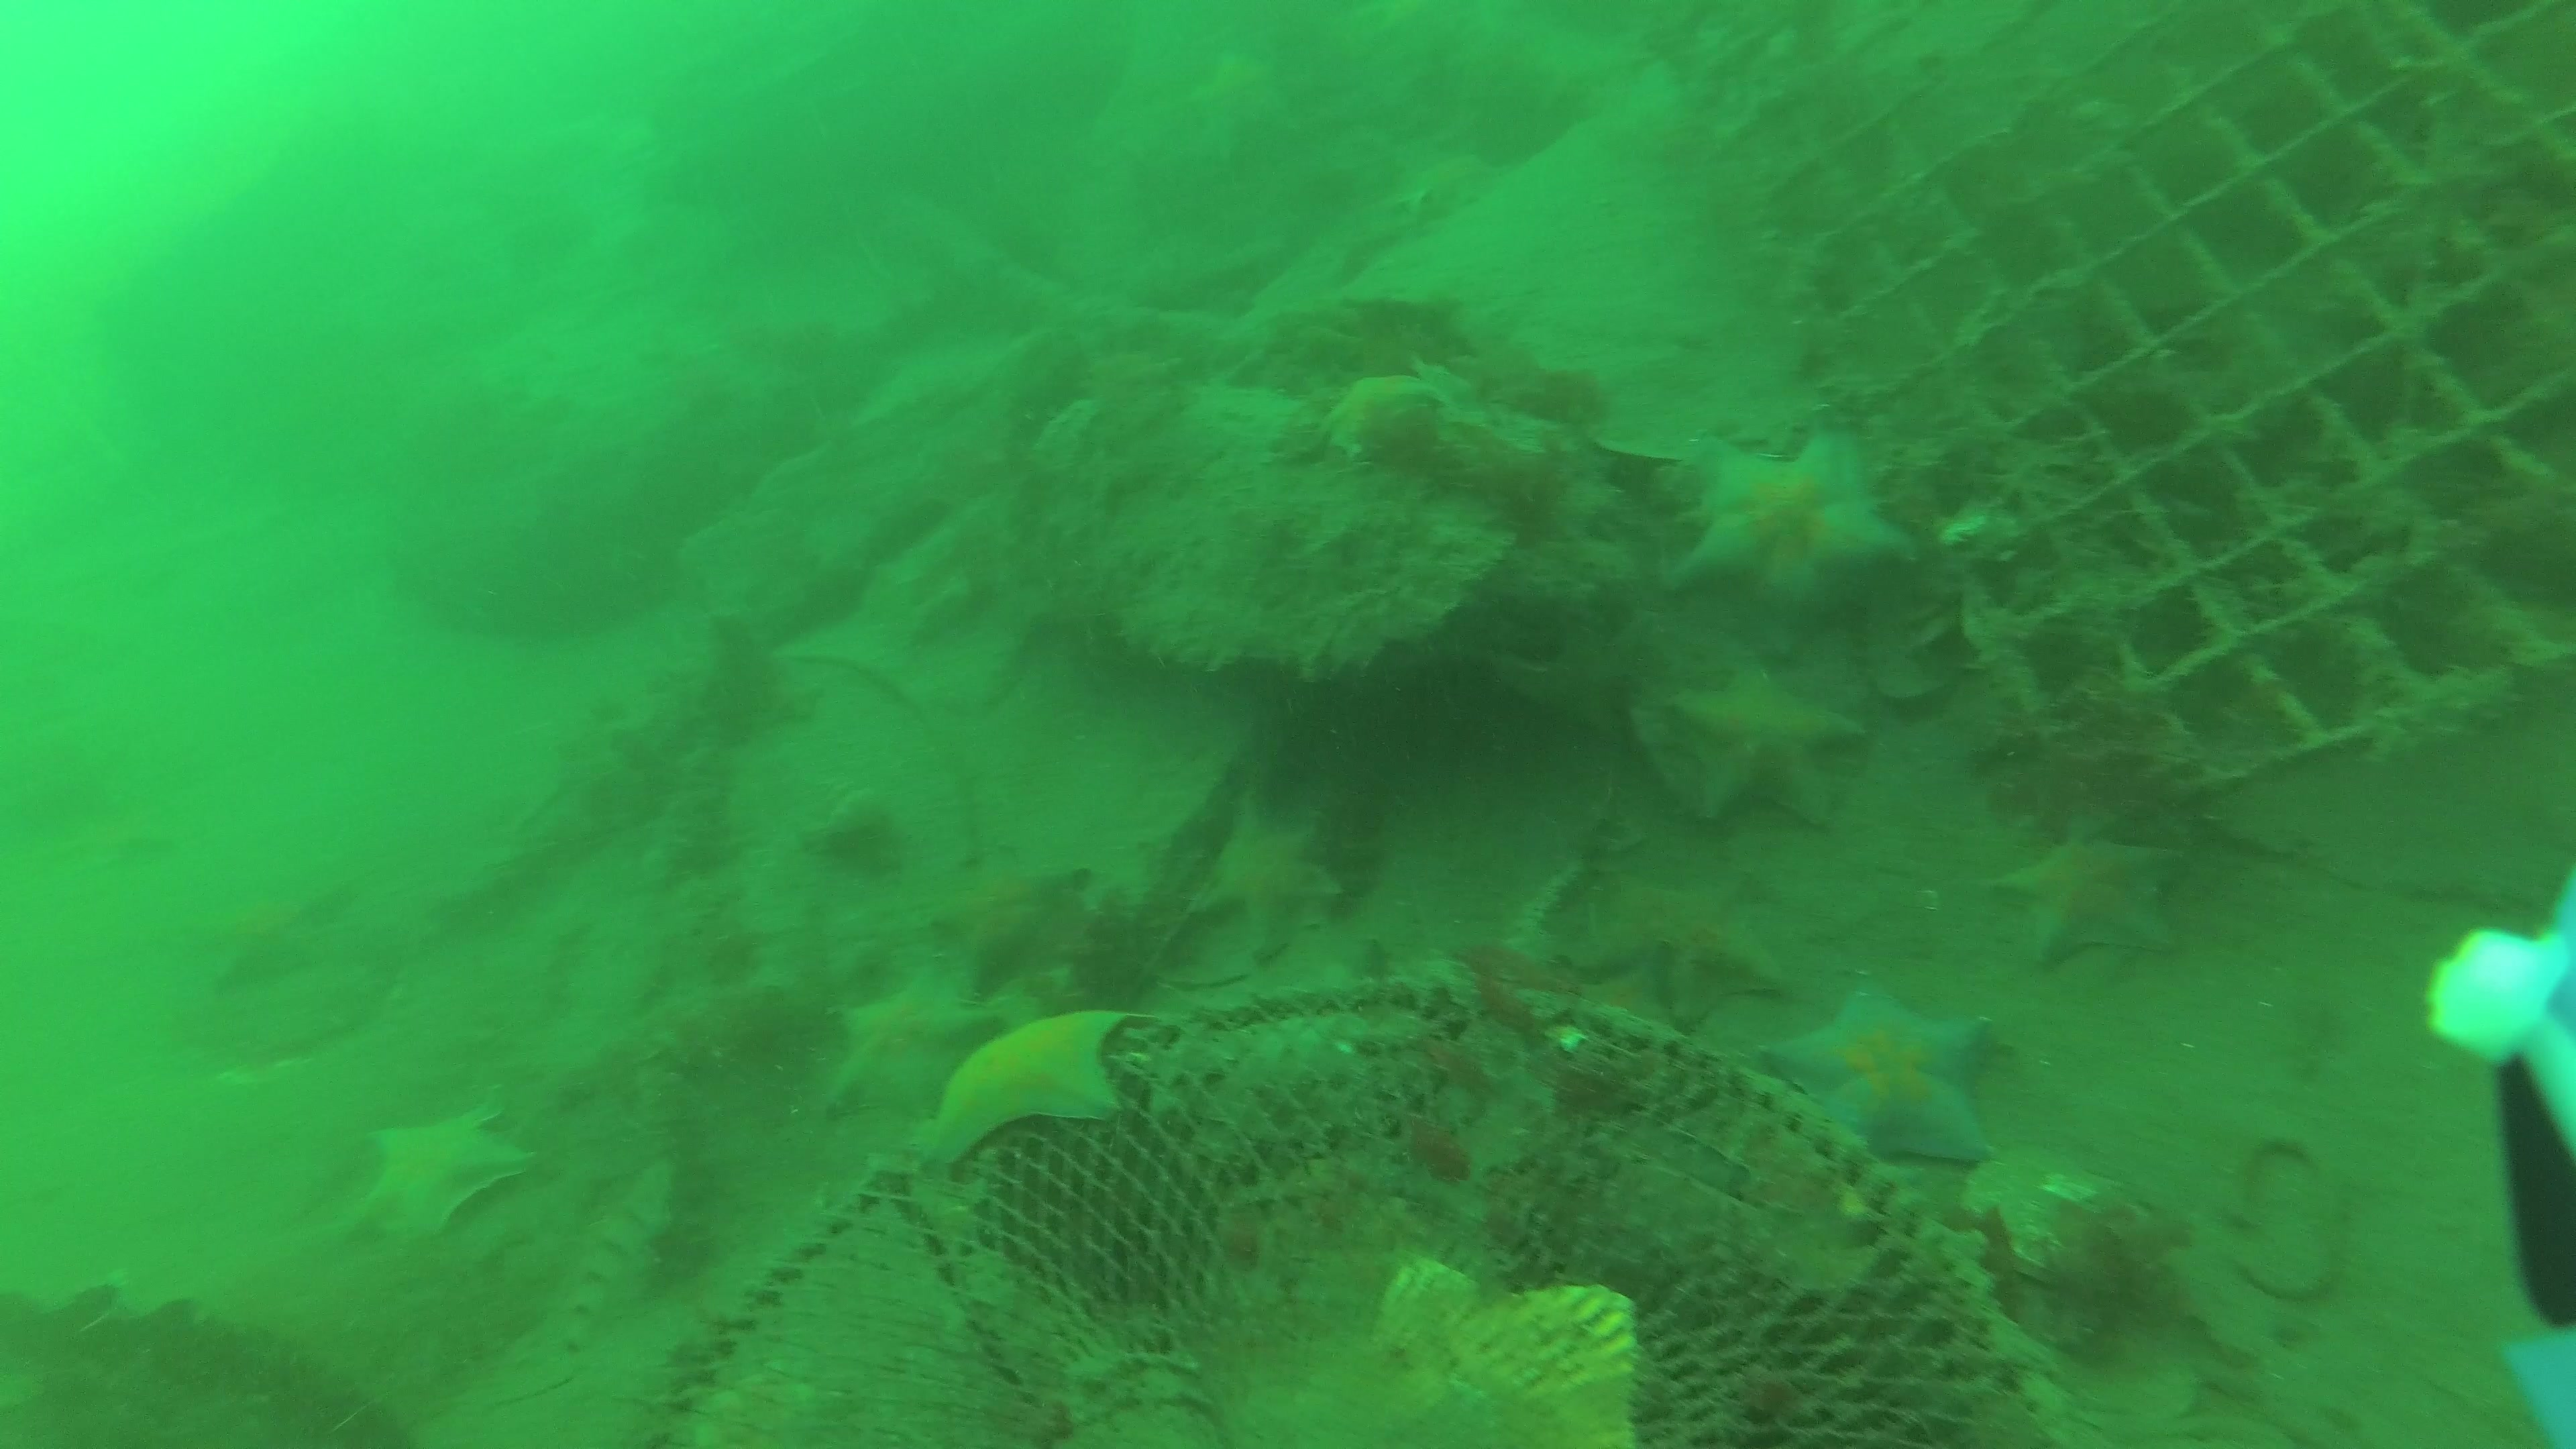starfish: (1665, 428, 1920, 621), (1766, 985, 2005, 1169), (1569, 874, 1790, 1033), (1670, 669, 1865, 835), (939, 1014, 1150, 1166), (1992, 823, 2185, 970), (817, 971, 1005, 1122), (939, 842, 1093, 993), (1200, 800, 1341, 962), (343, 1118, 533, 1238)
